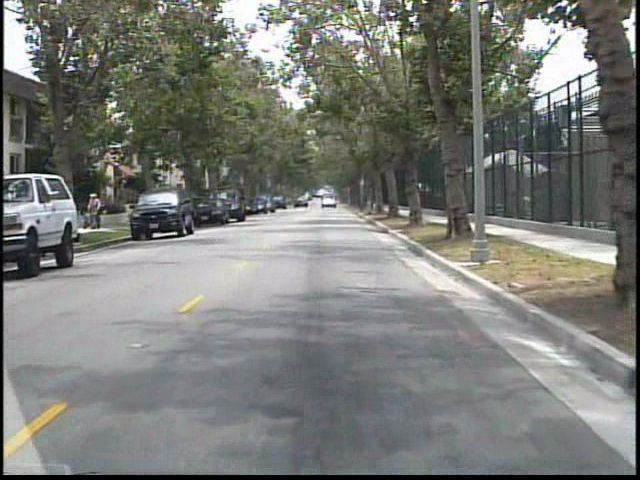person: (90, 194, 109, 233)
